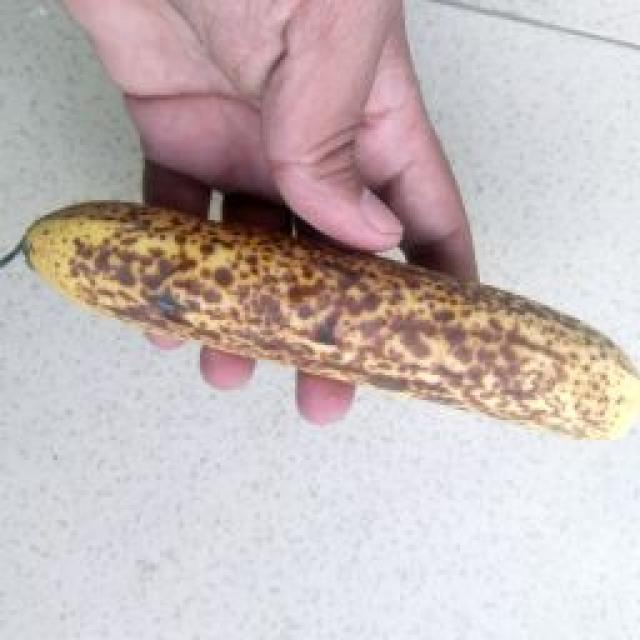banana: (80, 76, 586, 469)
